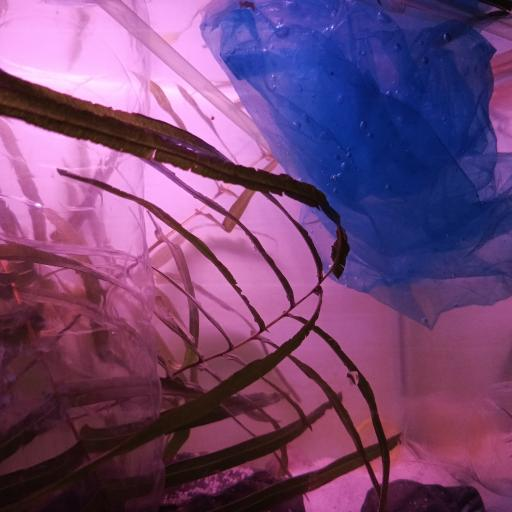plastic_bag: (200, 0, 512, 328)
plastic_bottle: (0, 0, 163, 512), (344, 384, 512, 496)
plastic_straw: (99, 0, 257, 141)
